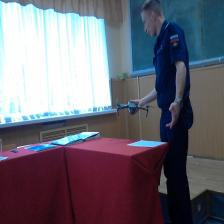drone: (112, 90, 155, 120)
